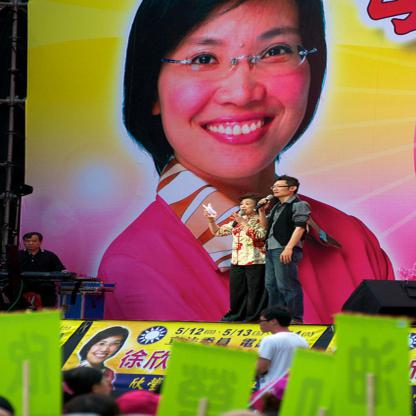face: (158, 7, 312, 179), (89, 339, 123, 363), (92, 379, 110, 401), (273, 183, 291, 198), (260, 318, 277, 332), (240, 201, 256, 215), (25, 238, 40, 250)
